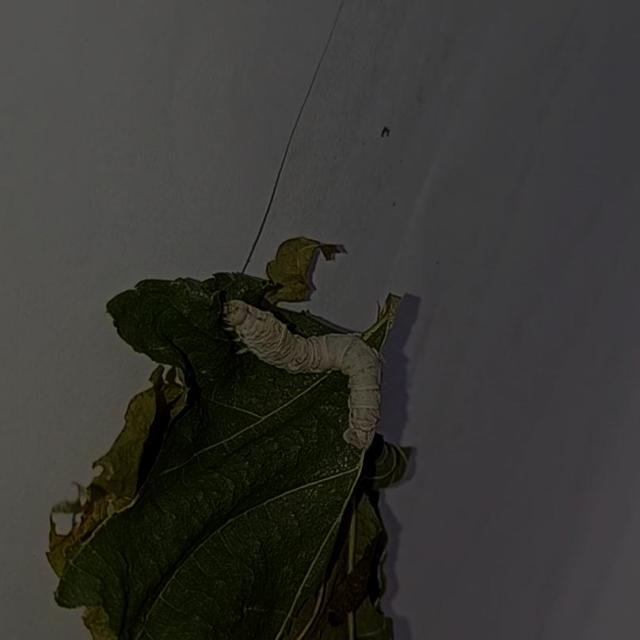Healthy: (215, 276, 409, 463)
